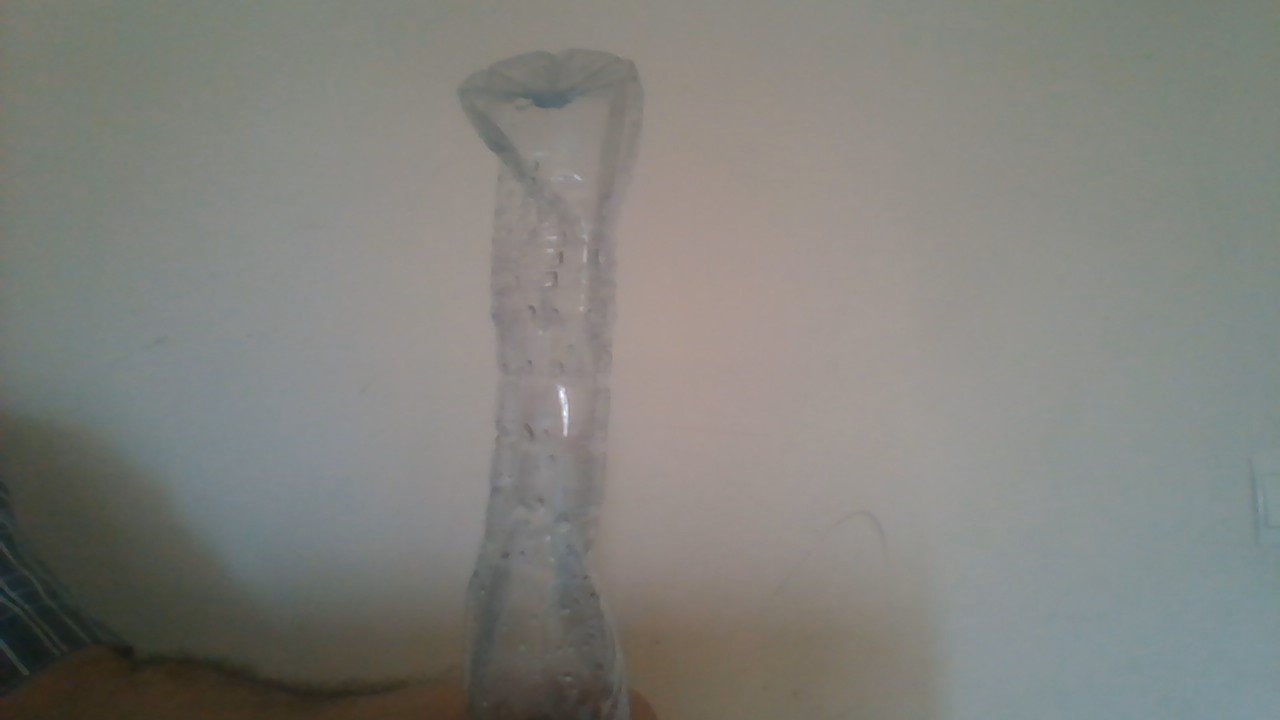plastic: (448, 45, 654, 720)
